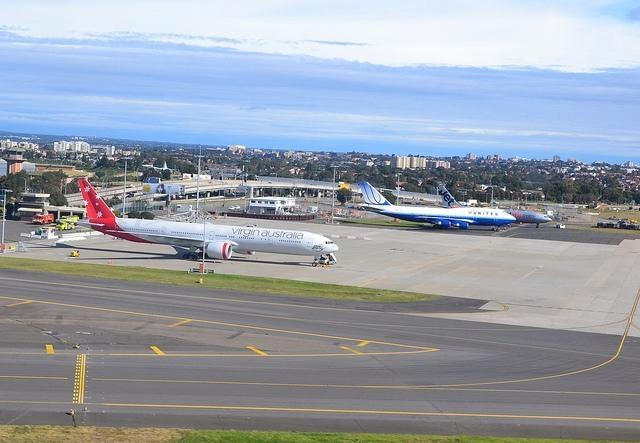truck: (56, 221, 74, 230), (556, 223, 567, 228)
